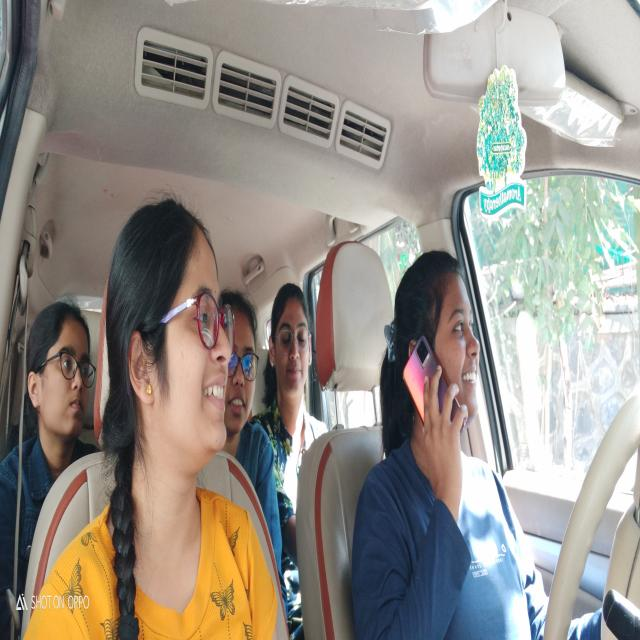mobile: (402, 338, 464, 446)
person: (108, 171, 234, 537), (386, 249, 492, 462), (28, 284, 98, 453), (268, 272, 321, 415), (219, 262, 261, 434)
